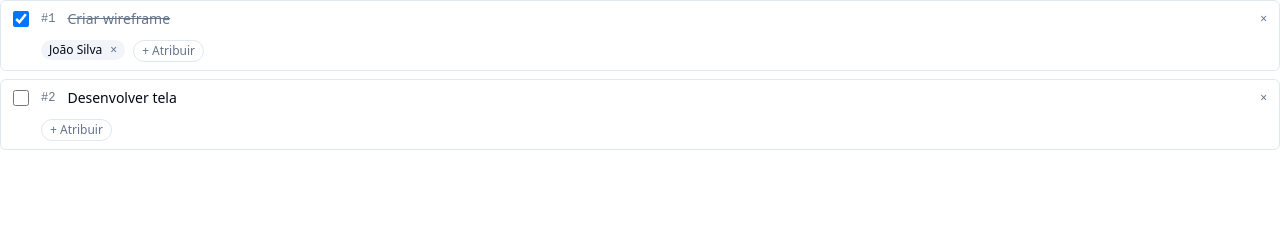
Test case: StepList › cancels delete when cancel is clicked
Click the button named "deletar passo" at {"x": 1264, "y": 19}, box [1260, 11, 1267, 27]
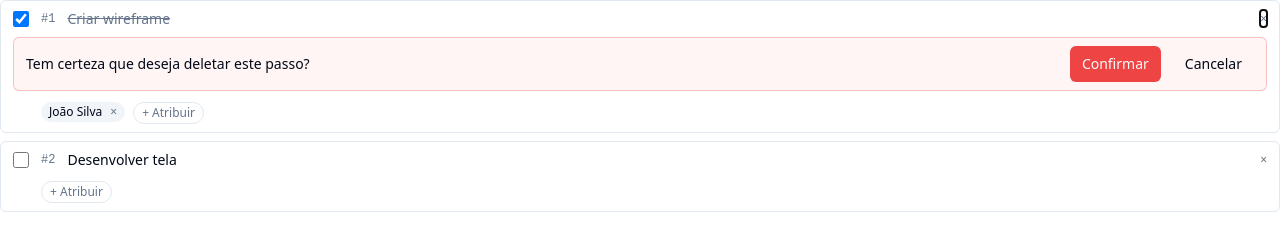
Click the button "Cancelar" at {"x": 1213, "y": 64}, box [1173, 46, 1254, 82]
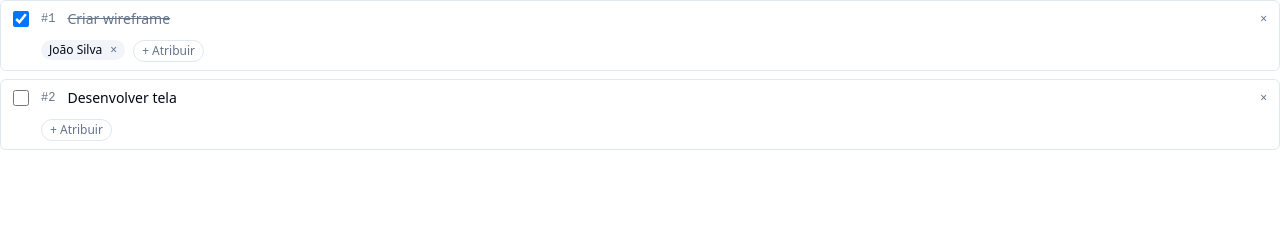
Check: the text "Tem certeza" is gone
